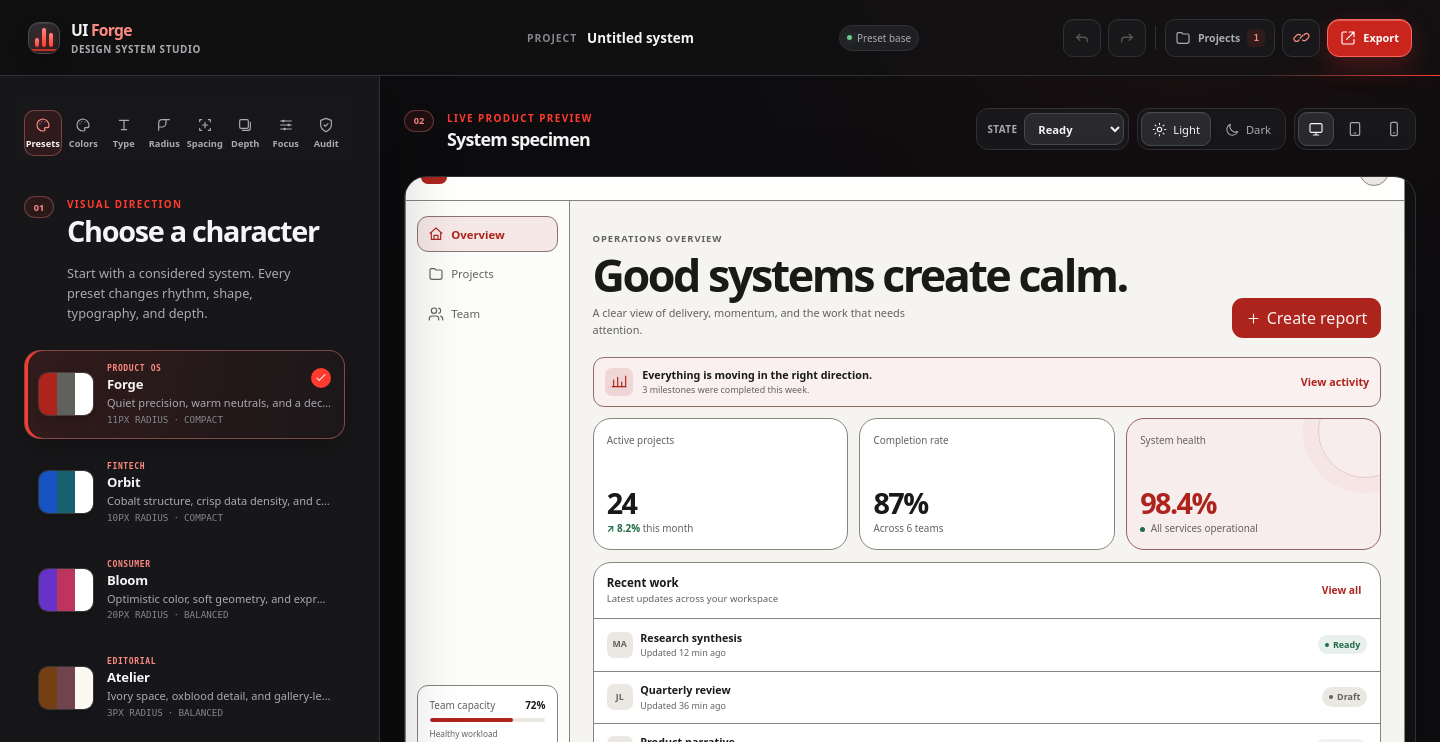
Test: UI Forge workspace › duplicates, archives, and restores a project
Click the button with aria-label "Open project library, 1 active".
click(1220, 38)  # box [1165,18,1275,56]
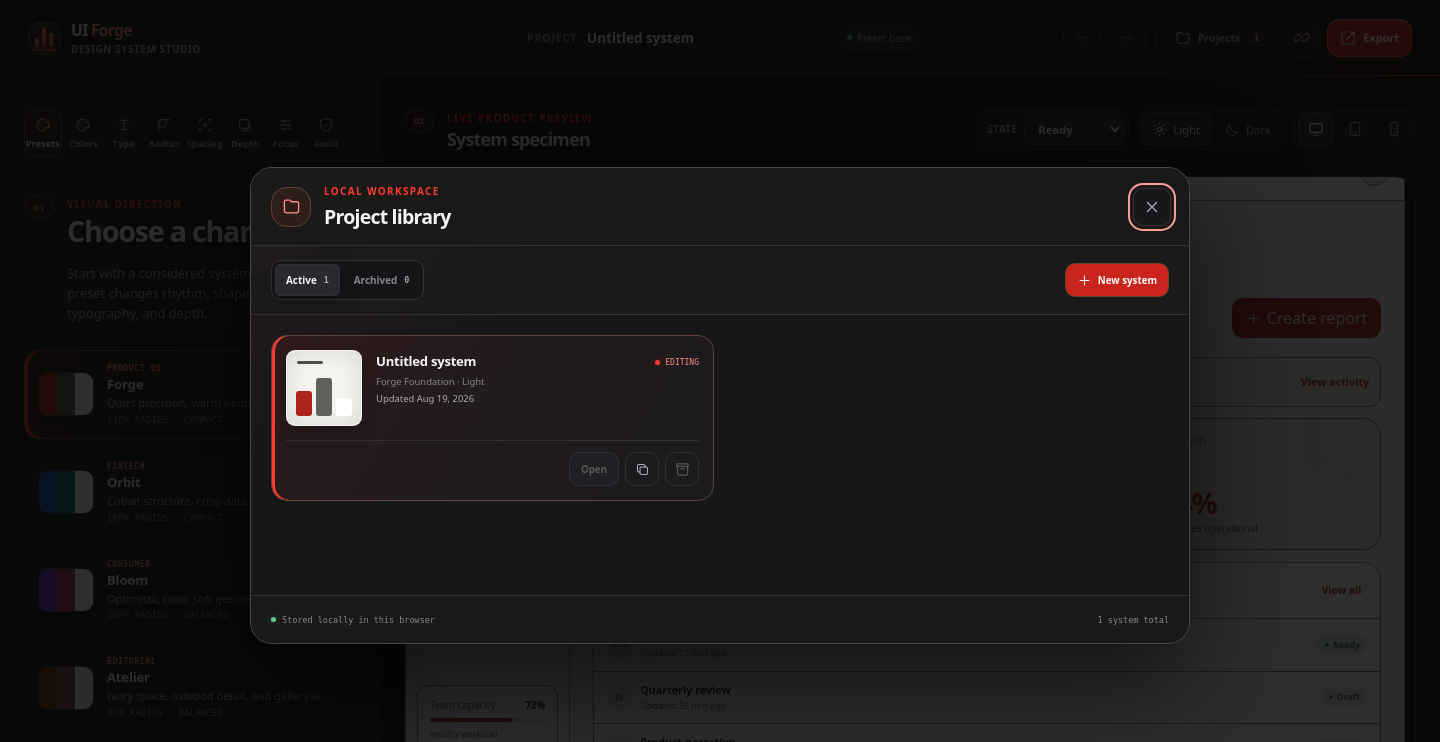
Click the button named "Duplicate Untitled system".
click(642, 468)  # box [625,452,659,486]
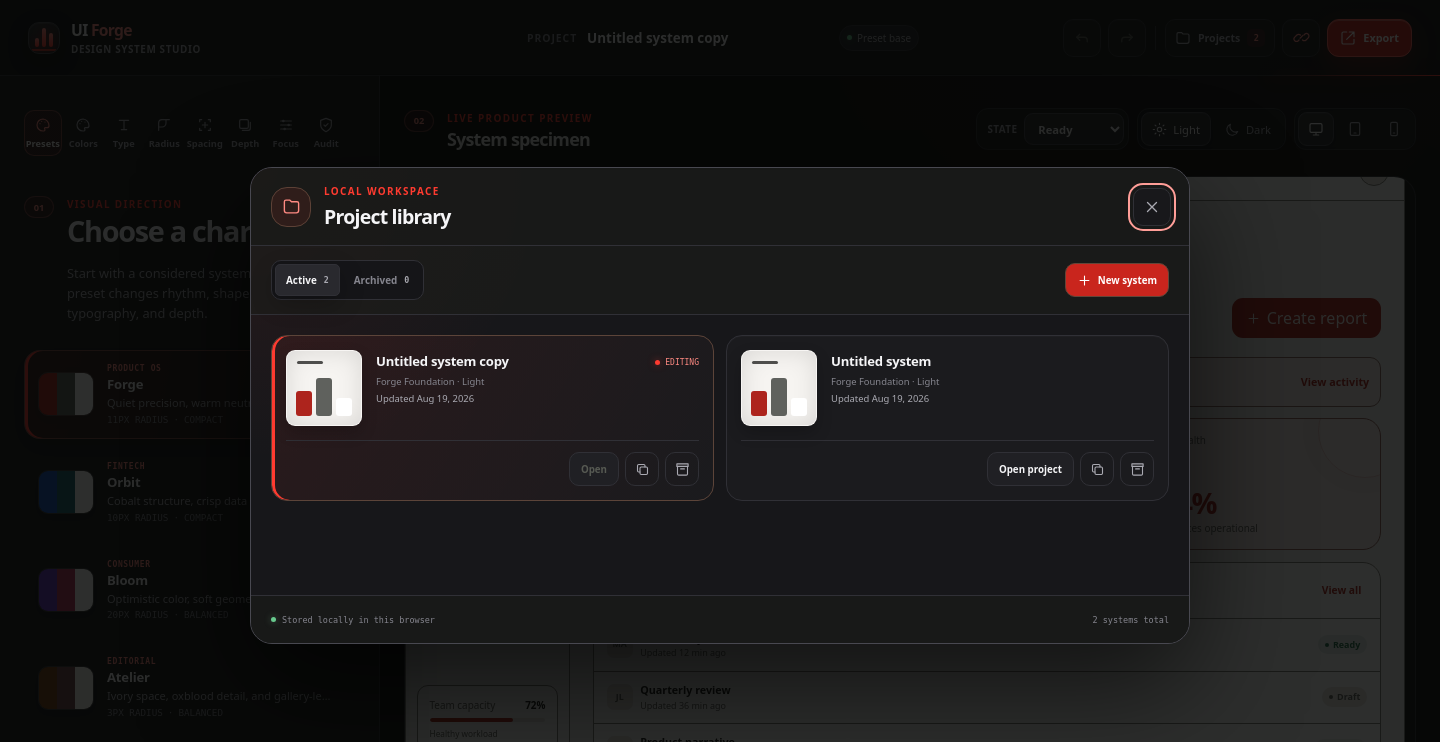
Expected: the heading "Untitled system copy" is shown, [376,352,509,370]
Click the button named "Archive Untitled system copy".
click(682, 468)  # box [665,452,699,486]
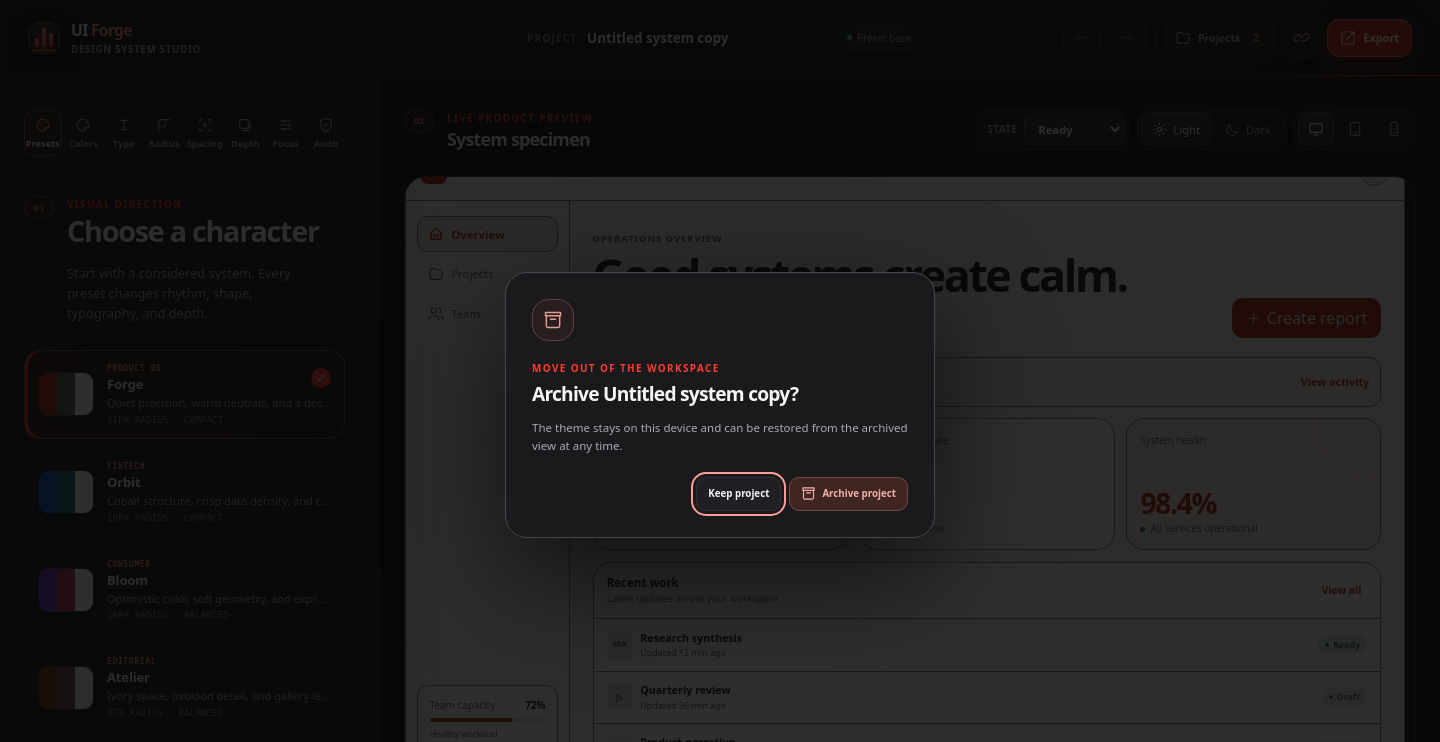
Click the button "Archive project".
click(849, 494)  # box [789,477,908,511]
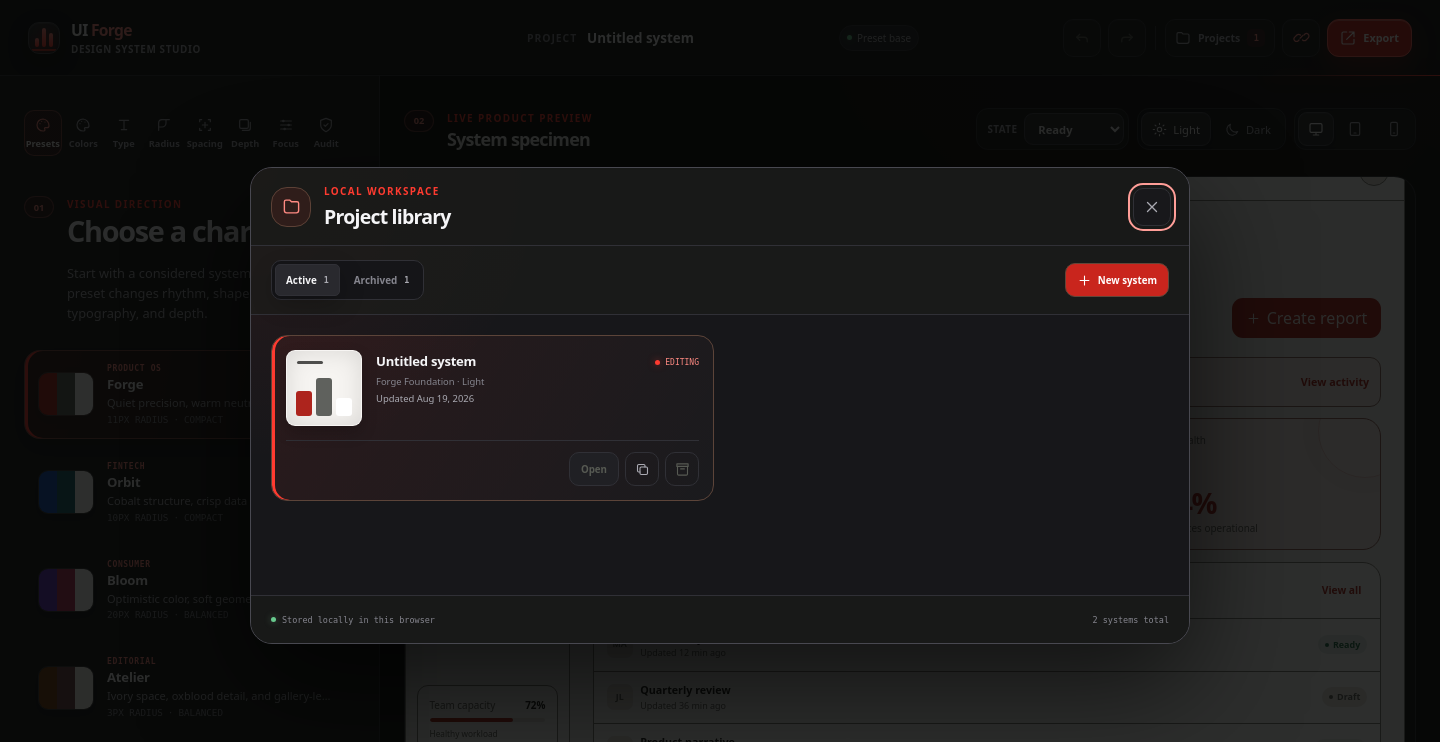
Click the tab "Archived 1".
click(382, 280)  # box [343,264,420,296]
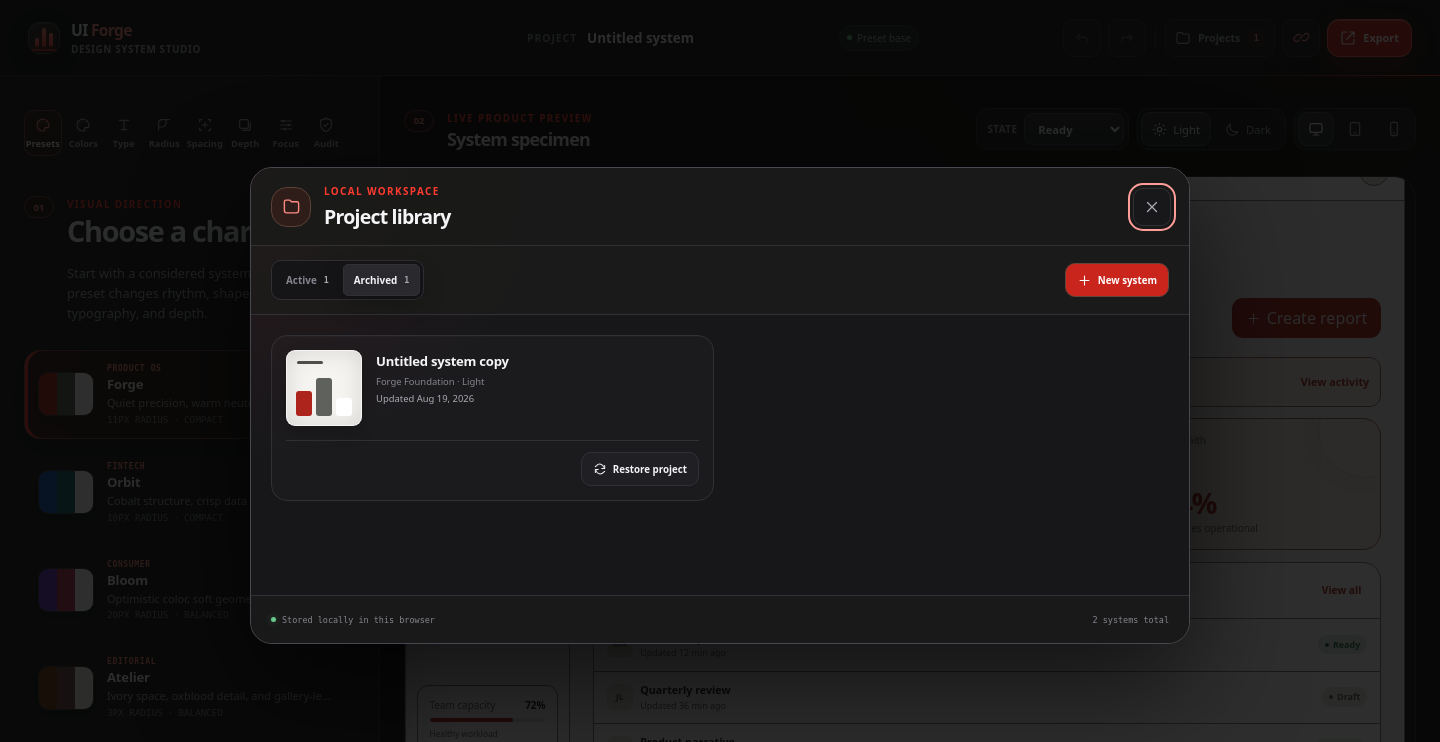
Expected: the heading "Untitled system copy" is shown, [376,352,509,370]
Click the button "Restore project".
click(640, 468)  # box [581,452,699,486]
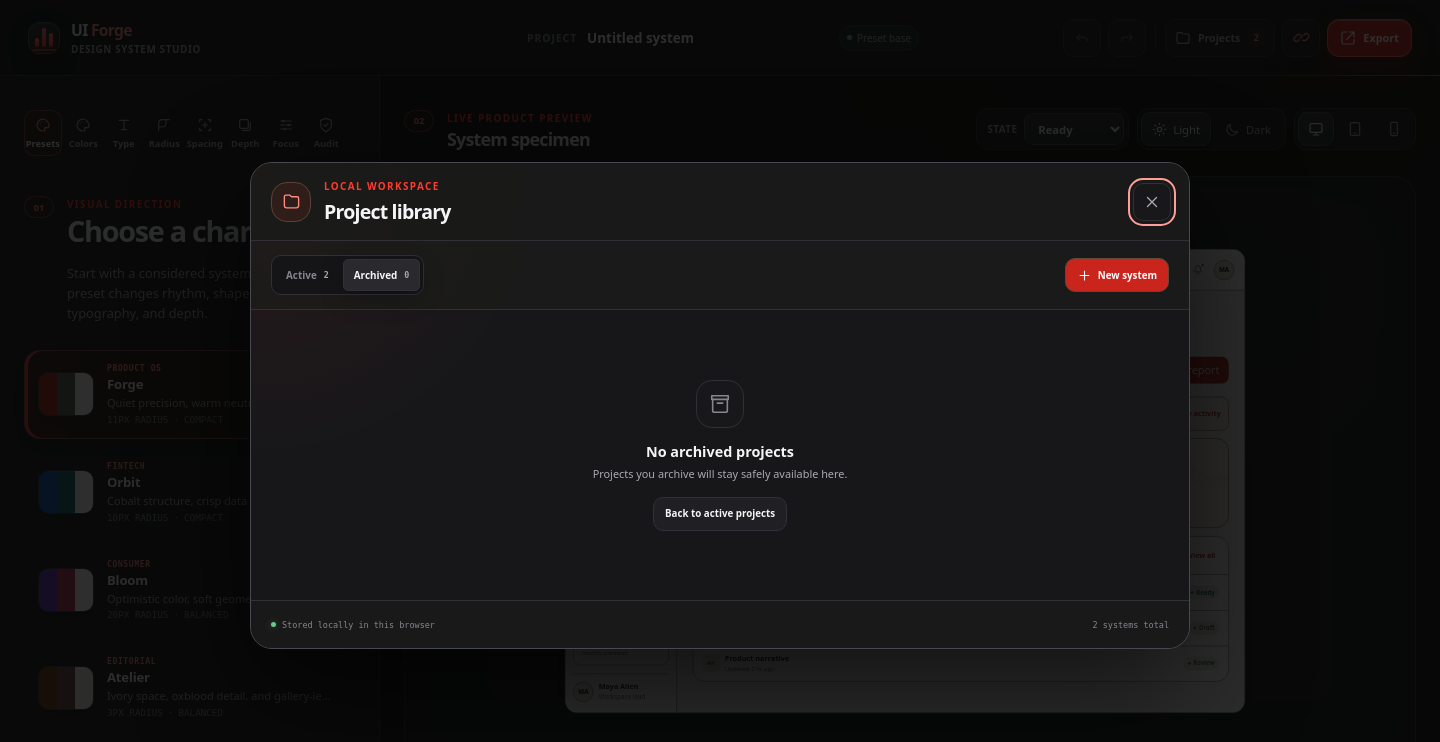
Expected: the heading "No archived projects" is shown, [646,441,794,460]
